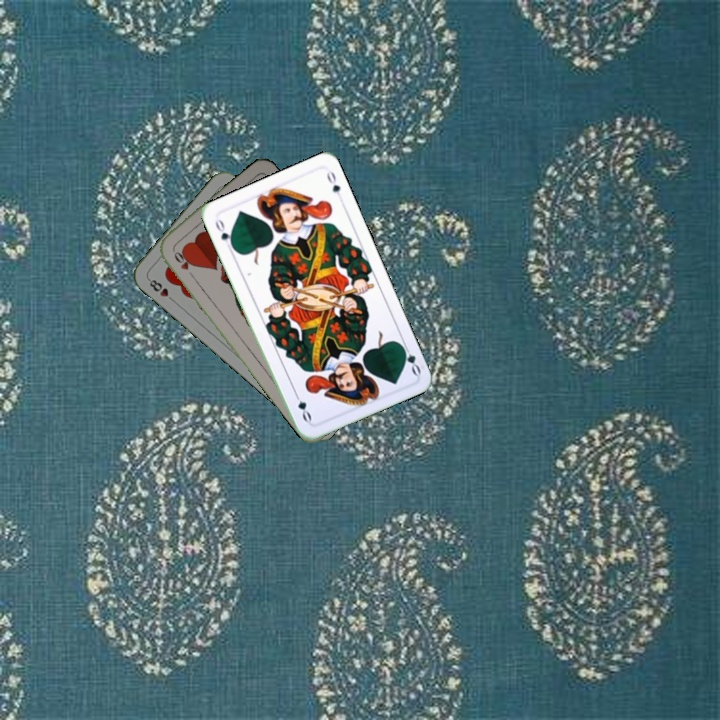GO: (396, 338, 424, 378), (211, 214, 237, 252)
H8: (144, 274, 178, 305)
HO: (168, 245, 197, 281)
